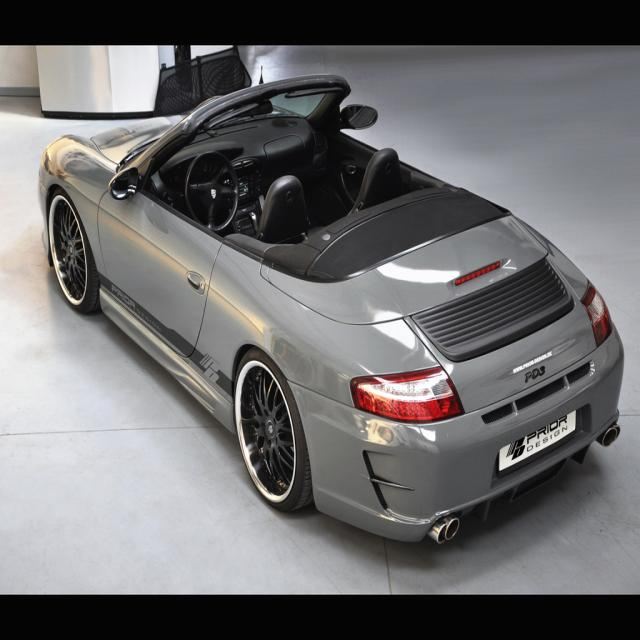car: (36, 62, 628, 548)
